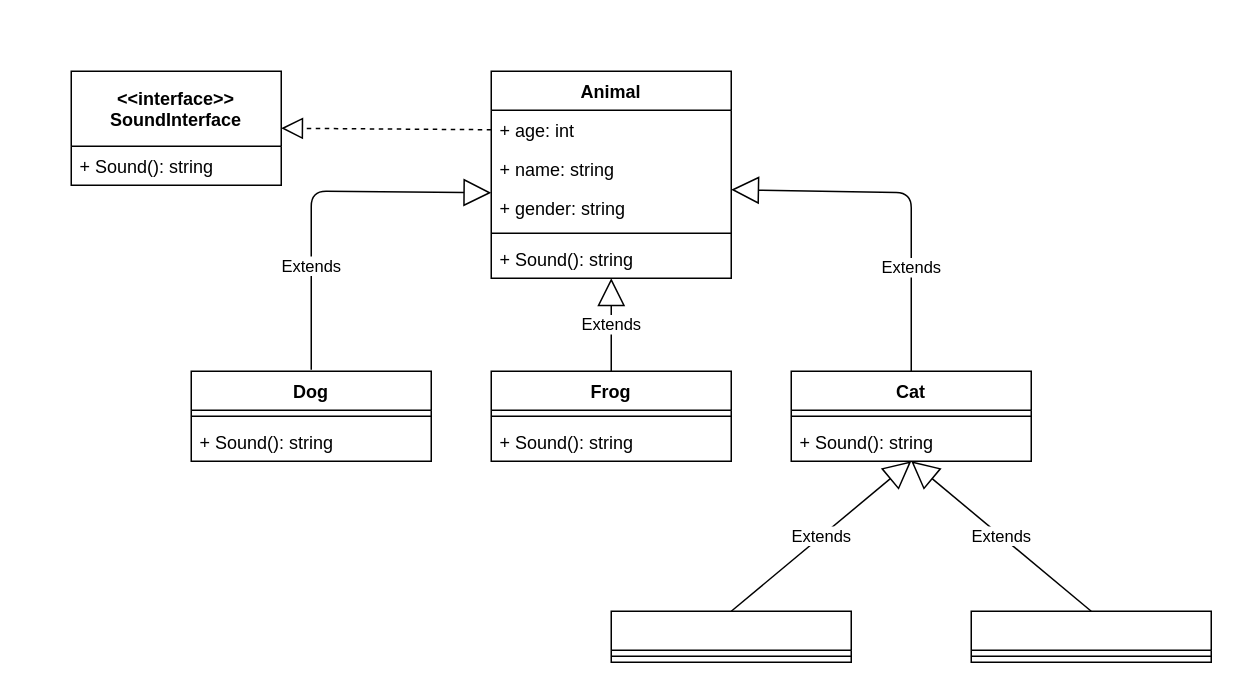
Some shapes in this 1238 by 689 pixel diagram are drawn without their labels. The shapes that lost their labels are listed below. From the top down, each one's centre as x and y in pixels, then its label:
At point 730,636: "Kitten".
At point 1090,636: "Tomcat".
